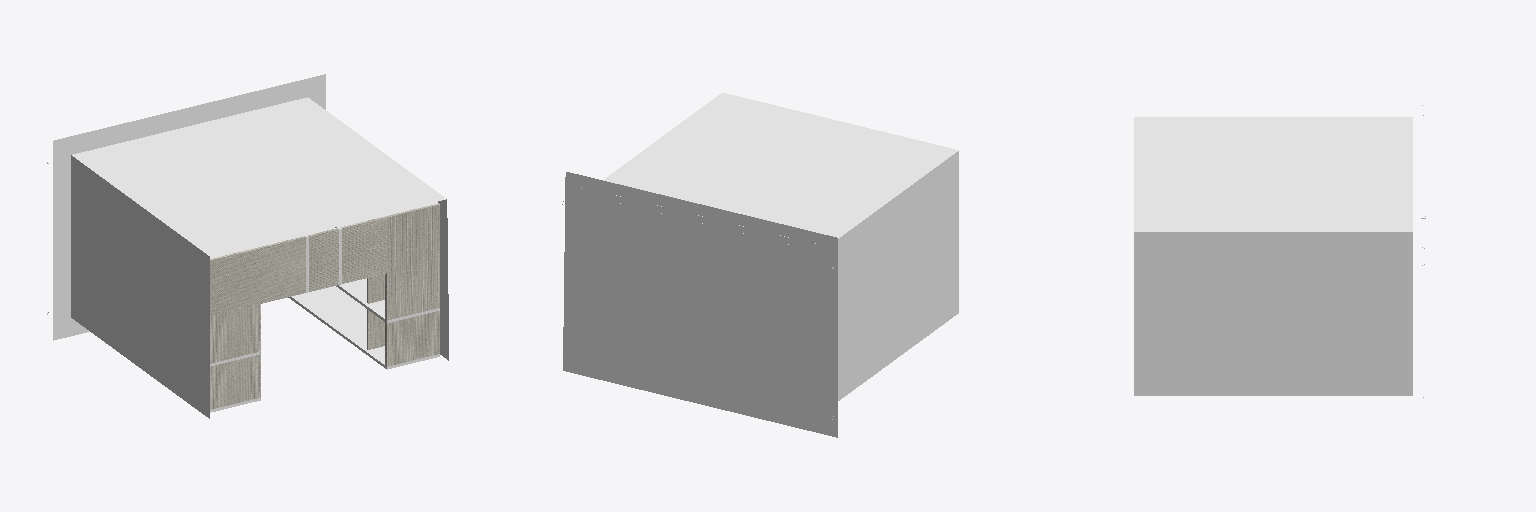
The picture shows the model from 3 angles: view 1: azimuth 30°, elevation 25°; view 2: azimuth 150°, elevation 25°; view 3: azimuth 270°, elevation 25°; orthographic projection.
Visible parts, largest first — view 1: Object_152, Object_154, Object_85, Object_25, Object_155, Object_161, Object_139, Object_84, Object_24, Object_126, Object_4, Object_66 (+3 smaller); view 2: Object_151, Object_152, Object_154, Object_159, Object_155, Object_161, Object_157; view 3: Object_153, Object_152.
Boxes of the visible parts, <box> form: Object_152: <box>72,97,445,256</box>; Object_154: <box>71,155,209,418</box>; Object_85: <box>386,203,439,320</box>; Object_25: <box>210,236,305,315</box>; Object_155: <box>54,74,324,154</box>; Object_161: <box>53,141,70,339</box>; Object_139: <box>288,286,439,369</box>; Object_84: <box>340,216,386,283</box>; Object_24: <box>210,304,259,363</box>; Object_126: <box>387,311,439,366</box>; Object_4: <box>210,355,259,409</box>; Object_66: <box>307,228,338,291</box>; Object_151: <box>581,194,819,414</box>; Object_152: <box>603,92,958,244</box>; Object_154: <box>838,151,958,400</box>; Object_159: <box>563,357,837,437</box>; Object_155: <box>566,172,836,251</box>; Object_161: <box>820,238,837,436</box>; Object_157: <box>563,173,582,369</box>; Object_153: <box>1134,232,1412,395</box>; Object_152: <box>1134,117,1412,231</box>.
Size of the model in its own units: 3095 by 2134 by 2817.
Materials: 9 (1 with a texture image).